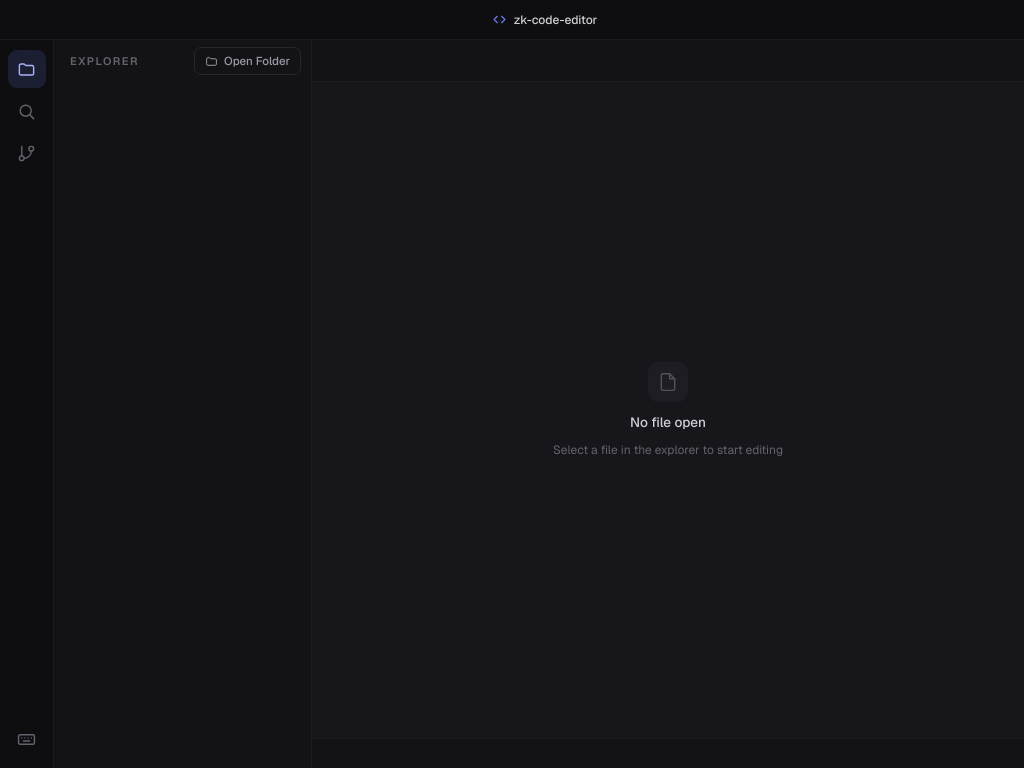
Scenario: App integration › the ActivityBar shortcuts button opens the modal
The image size is (1024, 768).
What coordinates should you click on to do the following:
click the button named "keyboard shortcuts"
I would click on:
 (26, 739)
Its box is [8, 720, 46, 758].
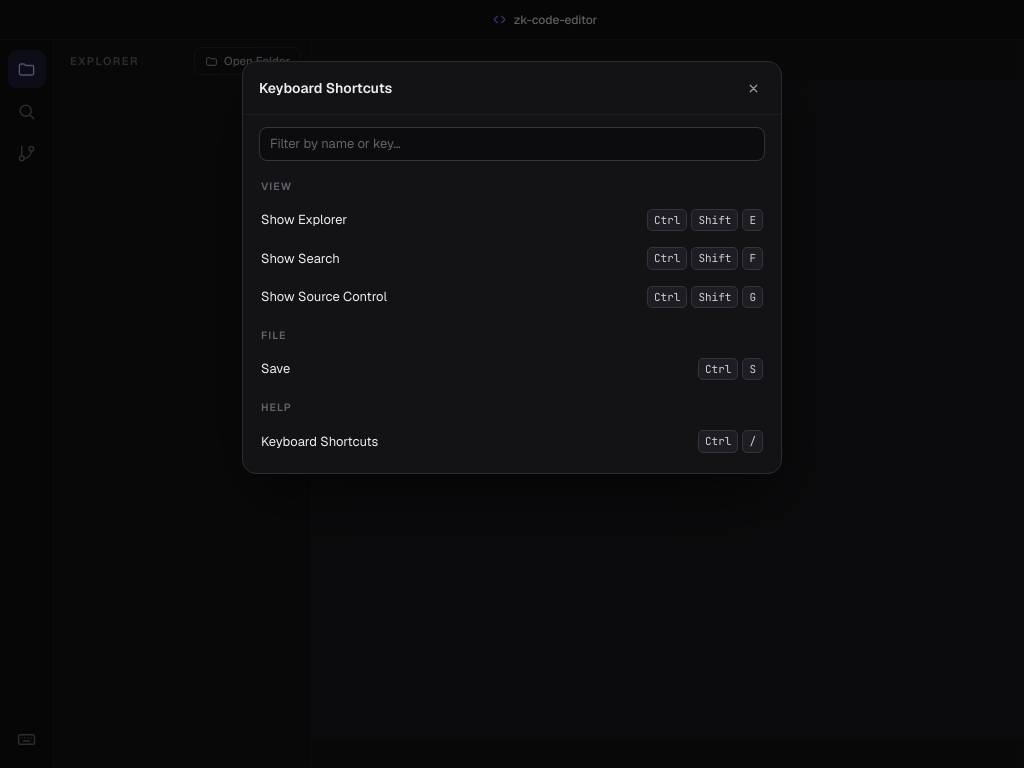
Expected: the dialog "Keyboard Shortcuts" is shown, [242, 61, 782, 474]
